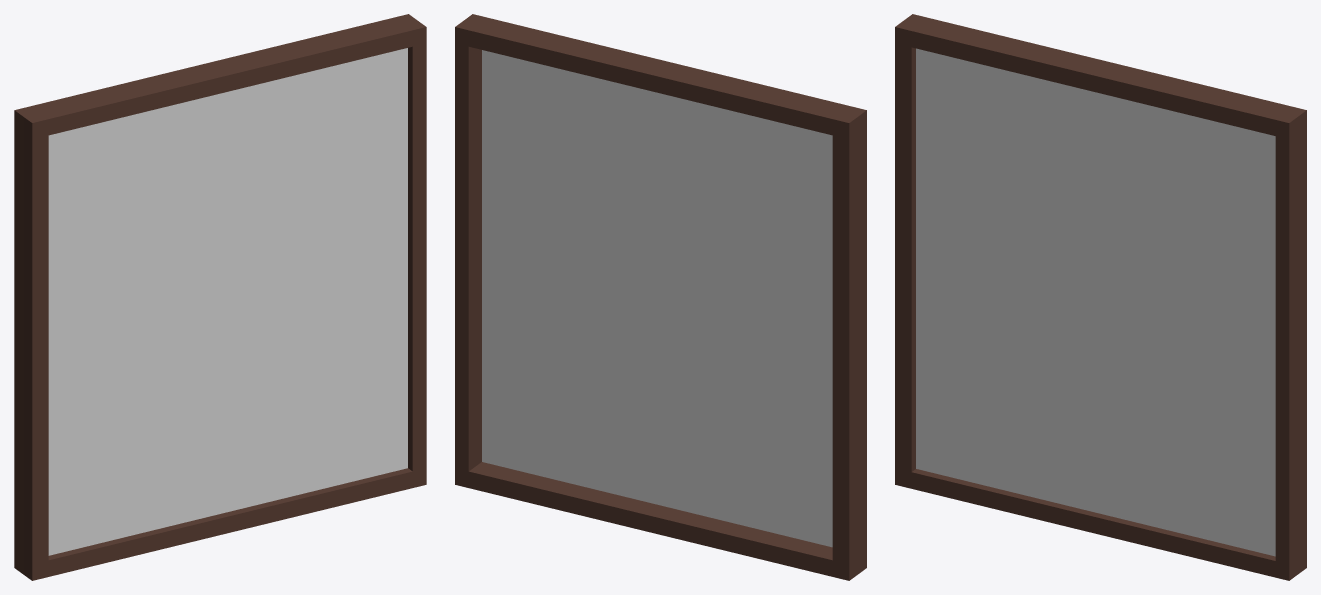
The model's file is marco.fbx.
The picture shows the model from 3 angles, left to right: view 1: azimuth 30°, elevation 25°; view 2: azimuth 150°, elevation 25°; view 3: azimuth 330°, elevation 25°; orthographic projection.
Parts seen in each view (by area): view 1: Cubo; view 2: Cubo; view 3: Cubo.
Part boxes in pixels (box(x1,y1,x2,y2)): Cubo: box(14, 14, 426, 580); Cubo: box(455, 14, 866, 580); Cubo: box(895, 14, 1306, 580).
Size of the model in its own units: 1600 by 1775 by 125.
